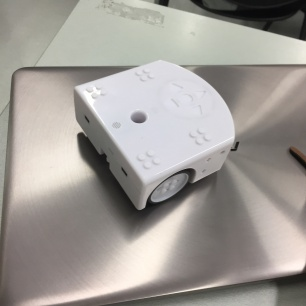thymio: (64, 53, 237, 234)
